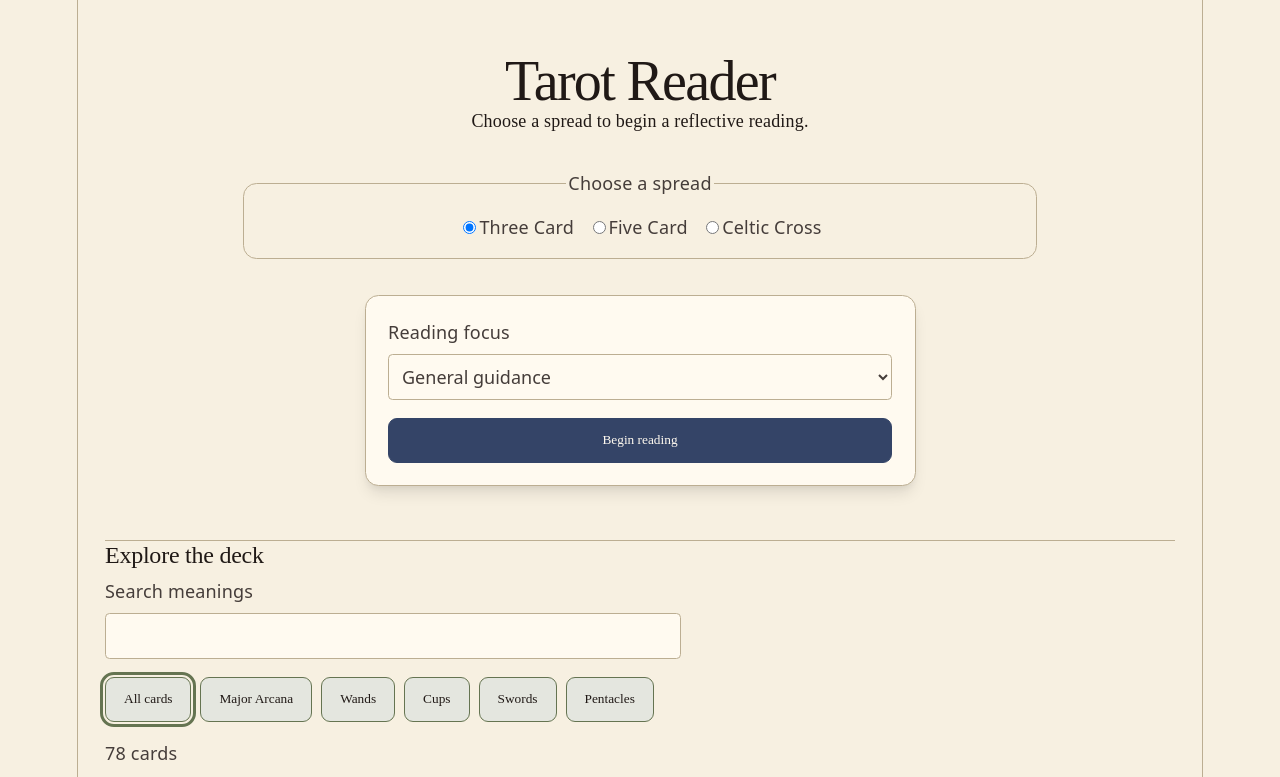
Test: shows a custom question field only for the Something else focus
Expected: the field labelled "your question" is not shown
Select "Something else" in the dropdown labelled "Reading focus" at (640,377), box top-left (388, 354), bottom-right (892, 400)
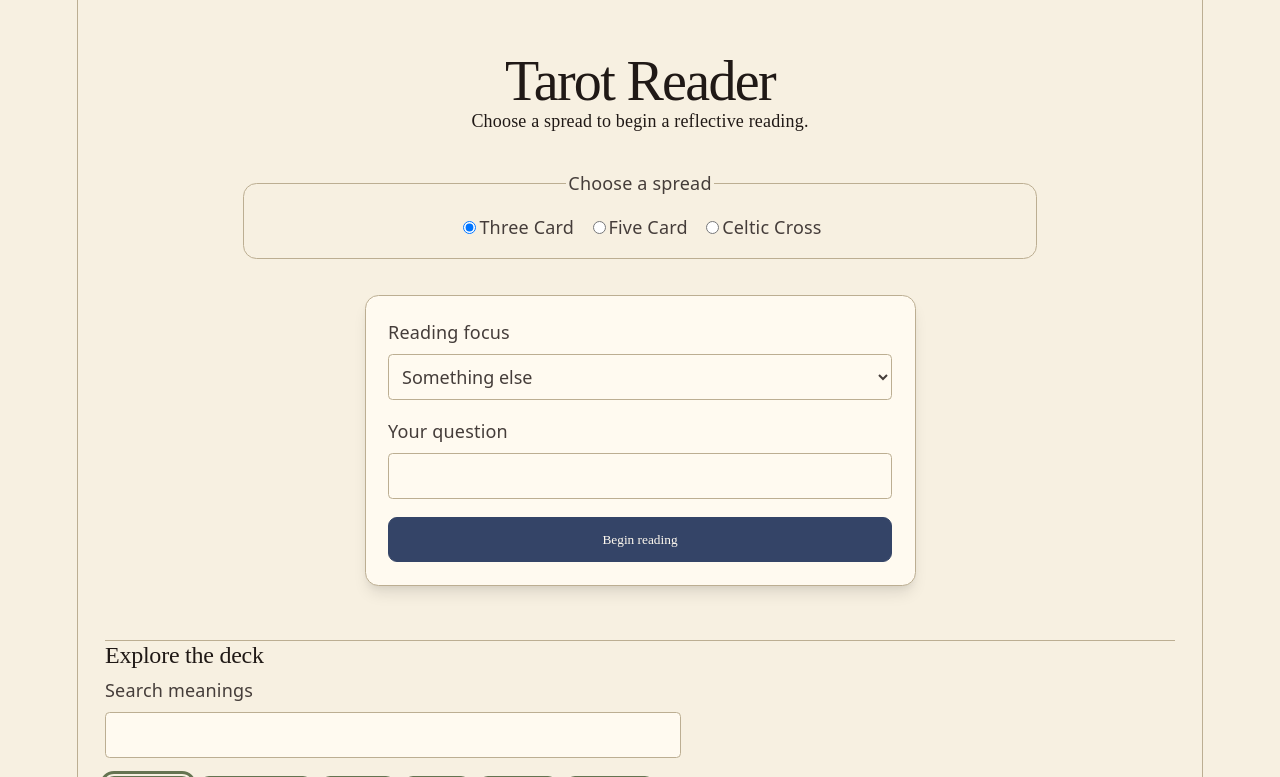
Expected: the field labelled "Your question" is shown, top-left (388, 453), bottom-right (892, 499)
